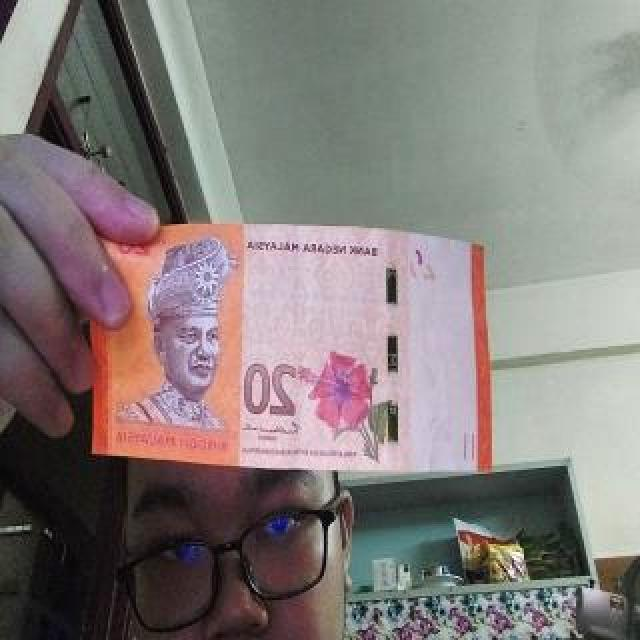20 Ringgit: (84, 218, 500, 478)
